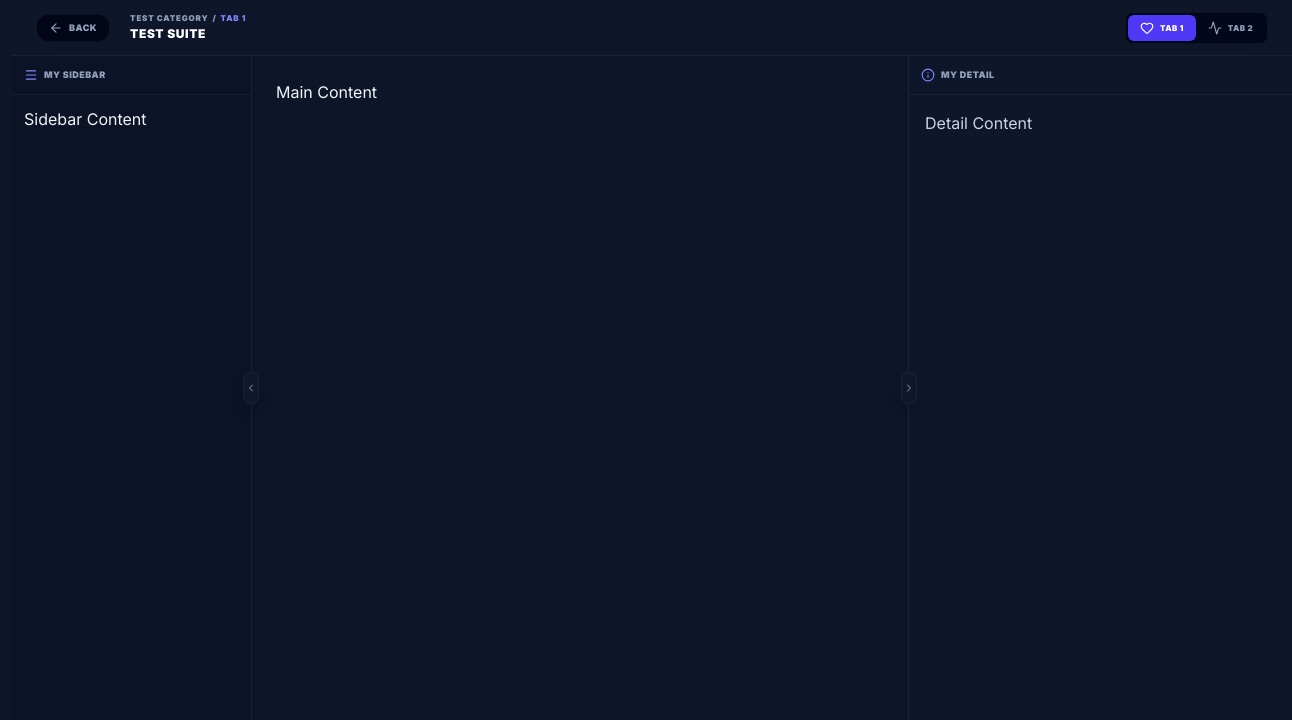
Test: SuiteLayout › collapses and expands the sidebar
Expected: the text "Sidebar Content" is shown, [24,109,147,129]
Click the button without text below "Sidebar Content" at [251, 388], box [243,372,259,404]
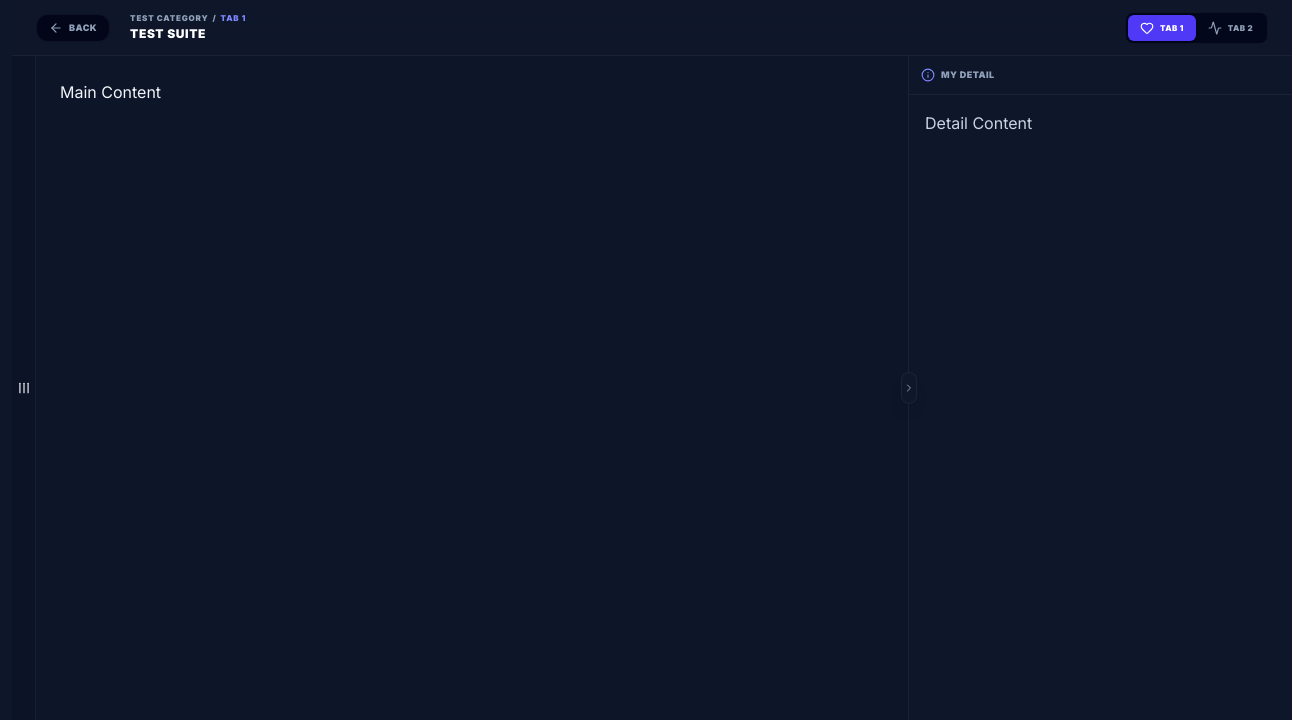
Result: the text with test id "sidebar-content" is gone
Expand it again
Click the button titled "Expand Navigation" at [24, 388], box [12,56,35,719]
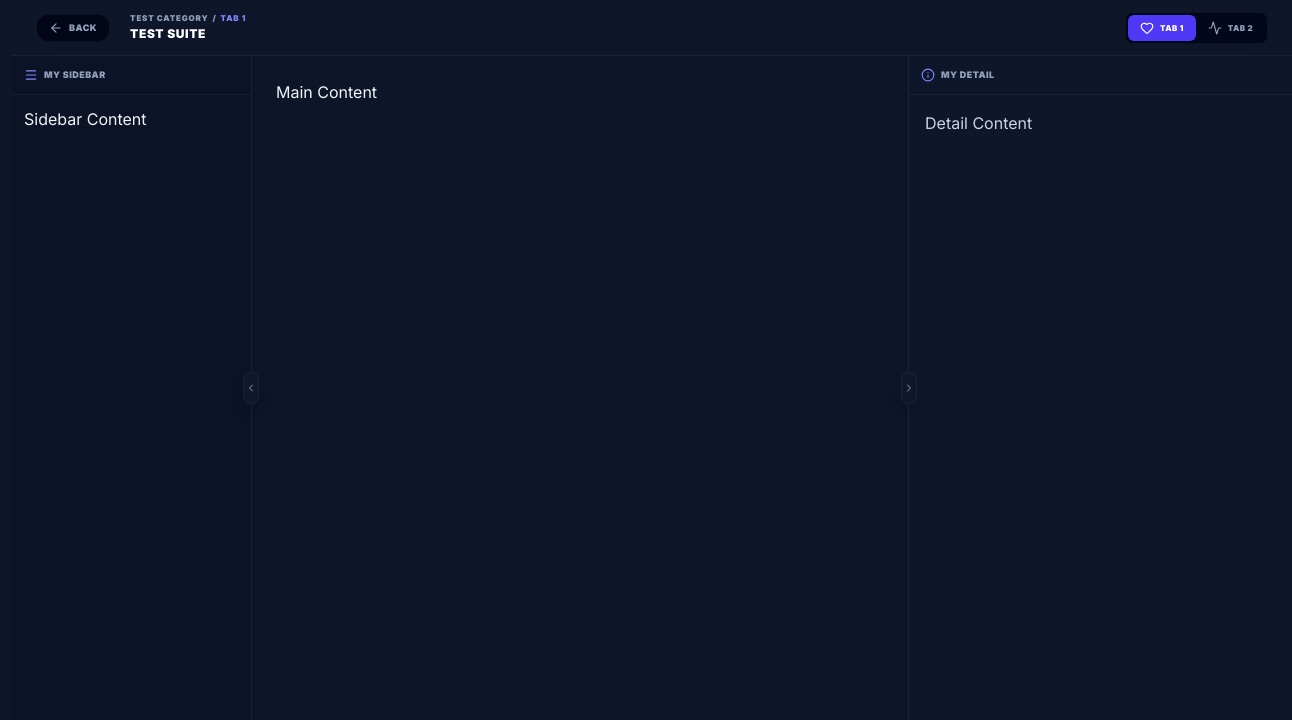
Result: the text "Sidebar Content" is shown at [24,109,147,129]
